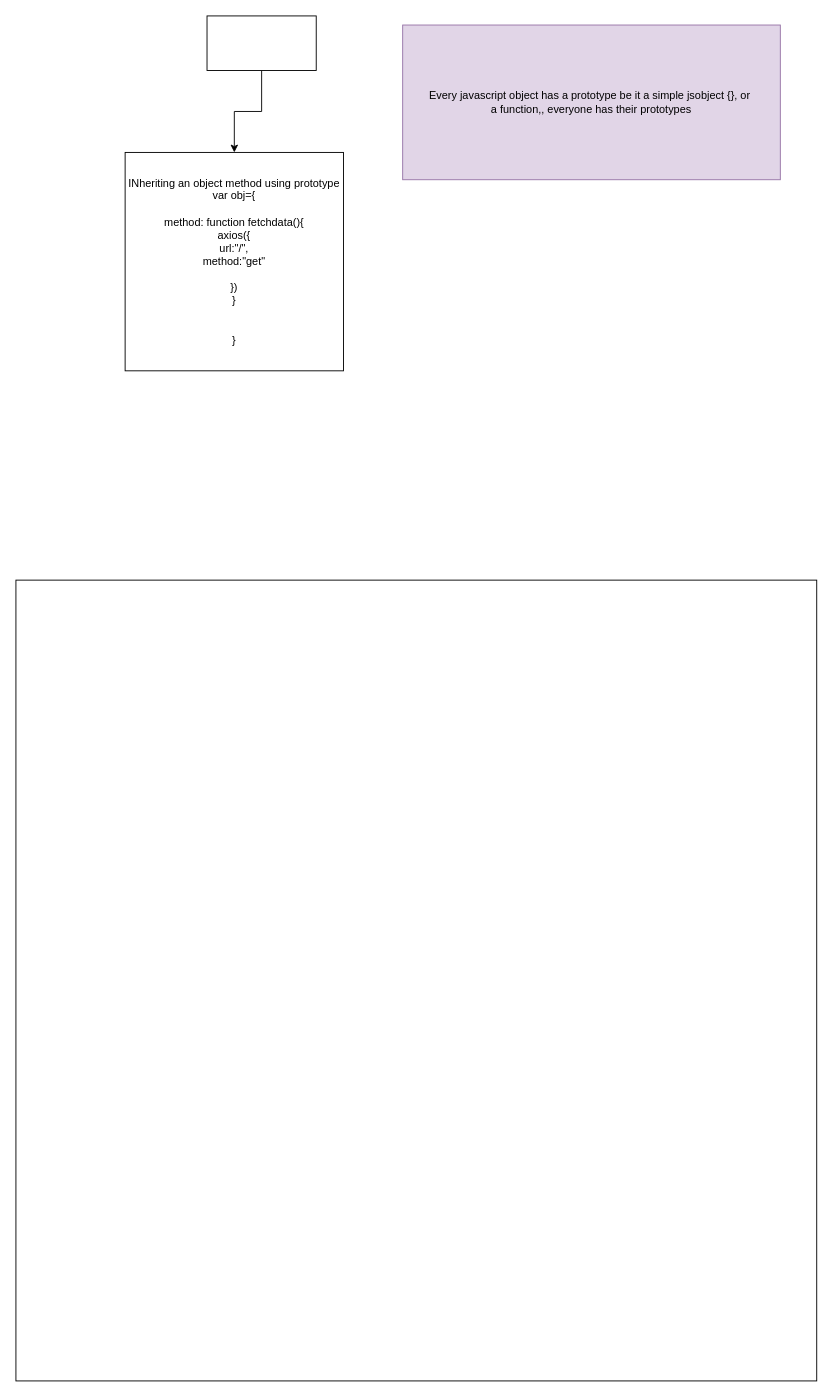
The diagram is 833 pixels wide and 1397 high, and some of its shapes have lost their labels. The shapes that lost their labels are listed below. From the top down, each one's box as (x1, y1, x2, y2) in pixels, then its label:
(206, 15, 316, 71): Prototype is a method to inherit in js
(15, 579, 817, 1381): // making a ludo game // properties like token,box,
